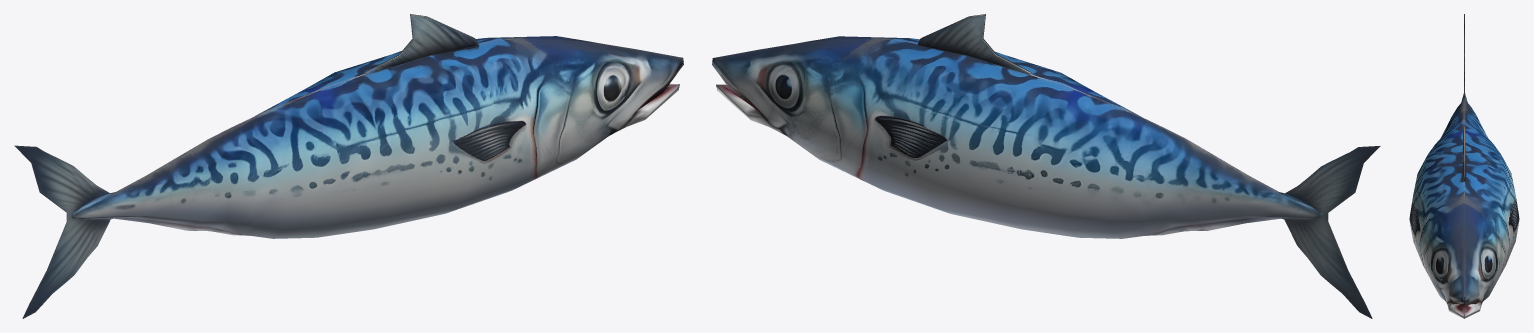
Rendered from Meshy_AI__0204164339_texture.fbx.
3 renders of one model, left to right at view 1: azimuth 30°, elevation 25°; view 2: azimuth 150°, elevation 25°; view 3: azimuth 270°, elevation 25°, orthographic. The views are drawn at different scales.
Visible parts, largest first — view 1: Mesh_0; view 2: Mesh_0; view 3: Mesh_0.
Boxes of the visible parts, x1,y1,x2,y2 form: Mesh_0: [14, 14, 683, 318]; Mesh_0: [712, 14, 1380, 318]; Mesh_0: [1409, 14, 1519, 318].
Size of the model in its own units: 200 by 59.85 by 40.3.
1 material, 1 textured.
